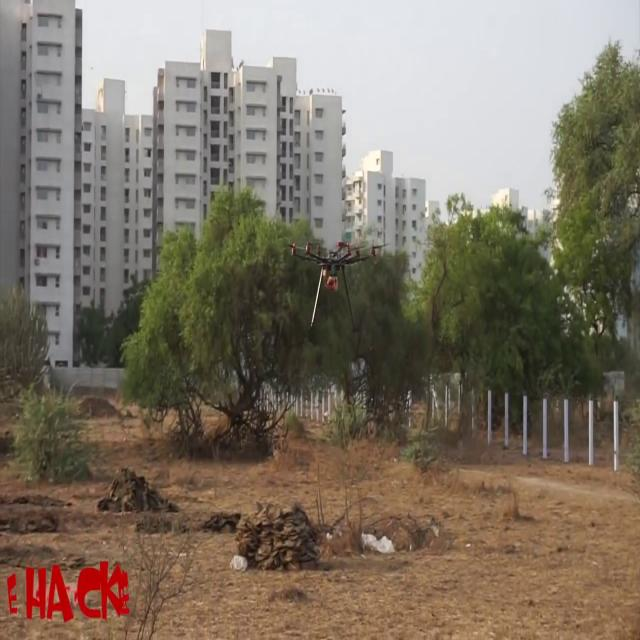drone: (282, 229, 386, 321)
